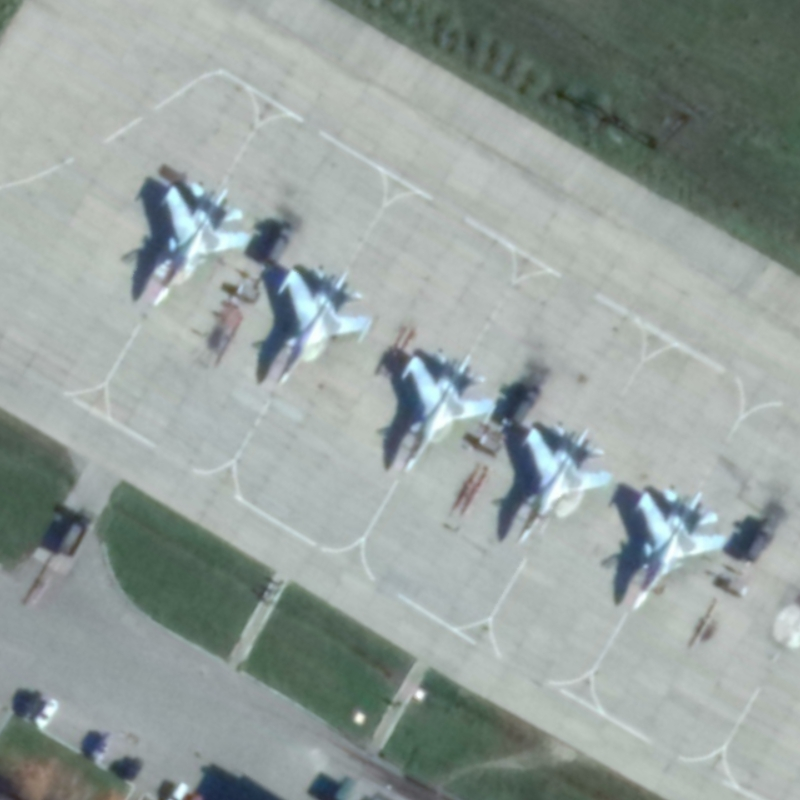A1: (273, 264, 373, 388), (398, 350, 498, 474), (515, 423, 613, 545)
A19: (150, 181, 255, 309), (630, 487, 730, 613)
